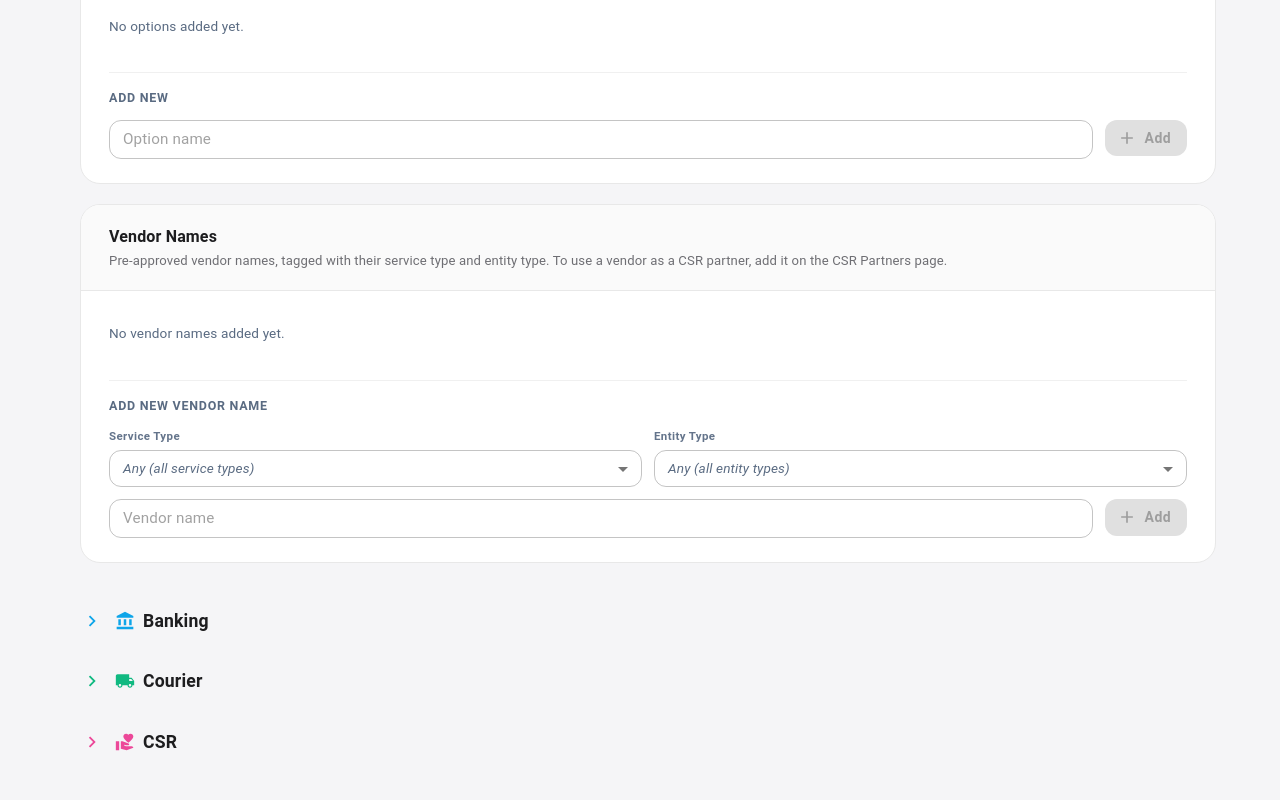
the CSR section shows the certificate types from the catalogue
(page scrolled)
What coordinates should you click on to do the following:
click the text "CSR"
I would click on:
 (160, 742)
Its box is [143,729,177,755].
(page scrolled)
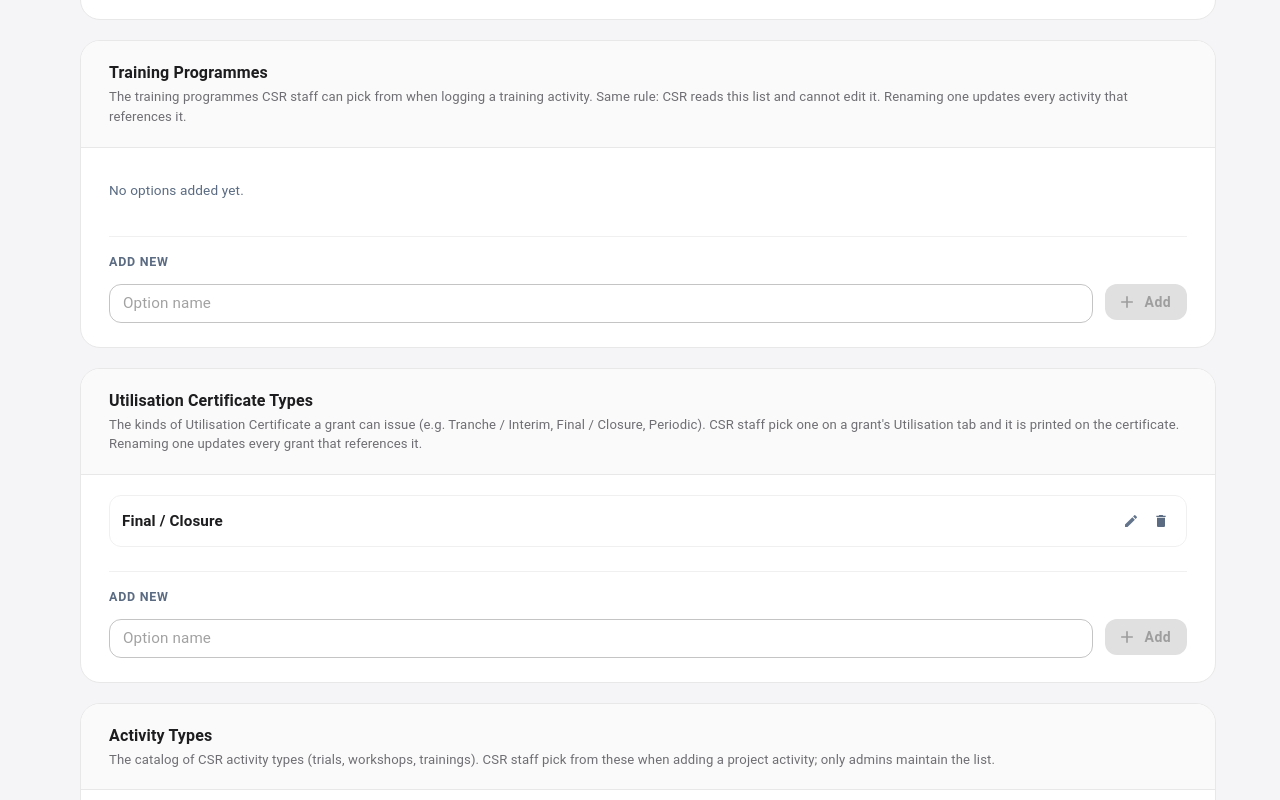
Expected: the text "Final / Closure" is shown, [122,510,223,532]
Expected: the text "Utilisation Certificate Types" is shown, [109,391,313,410]
